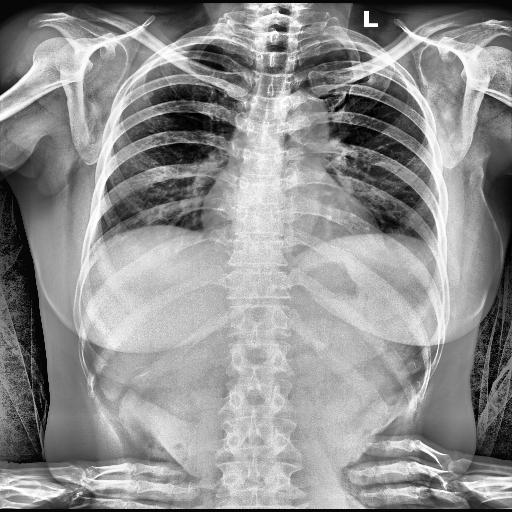0- Aortic enlargement: (283, 89, 331, 159), (281, 93, 332, 142), (288, 90, 328, 150)
7- Lung Opacity: (142, 92, 154, 100)
8- Nodule-Mass: (143, 92, 154, 100)
